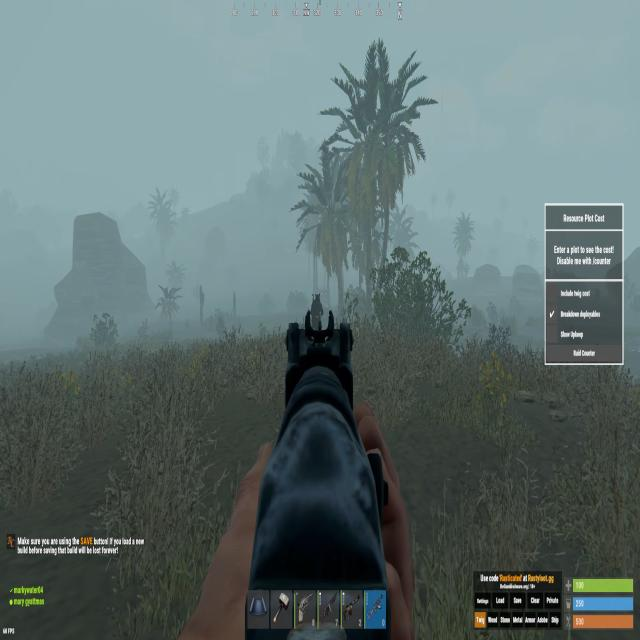Player: (310, 291, 324, 330)
